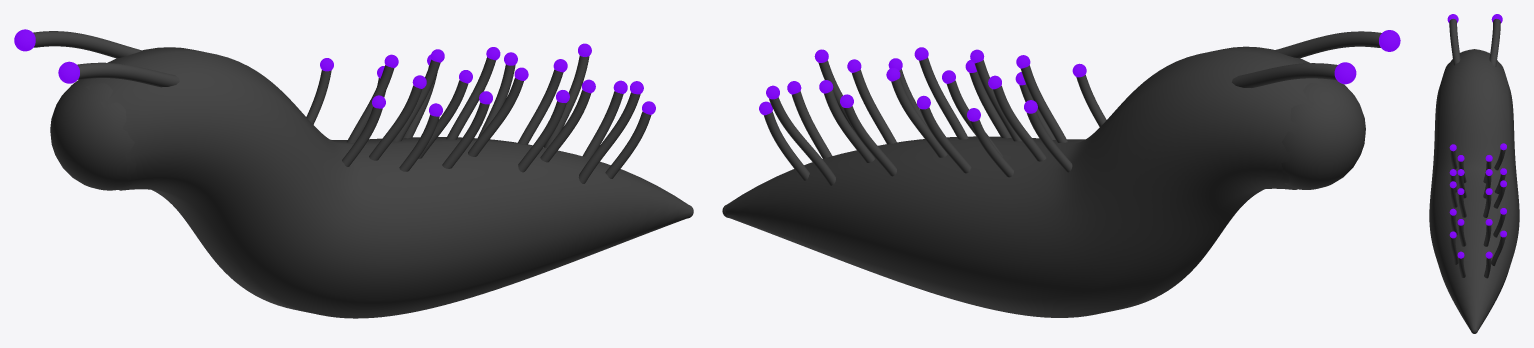
File: Sludge.glb
3 views of the same model, side by side, from view 1: azimuth 30°, elevation 25°; view 2: azimuth 150°, elevation 25°; view 3: azimuth 270°, elevation 25° (orthographic). The views are drawn at different scales.
Parts seen in each view (by area): view 1: NurbsPath, NurbsCurve.010, NurbsCurve, Sphere.021; view 2: NurbsPath, NurbsCurve.010, NurbsCurve, Sphere.021; view 3: NurbsPath, NurbsCurve.010, NurbsCurve, Sphere.021.
Part boxes in pixels (bbox=[...]): NurbsPath: bbox=[50, 47, 693, 318]; NurbsCurve.010: bbox=[306, 55, 651, 183]; NurbsCurve: bbox=[33, 31, 179, 87]; Sphere.021: bbox=[320, 47, 595, 116]; NurbsPath: bbox=[722, 46, 1365, 317]; NurbsCurve.010: bbox=[764, 57, 1106, 185]; NurbsCurve: bbox=[1232, 31, 1381, 87]; Sphere.021: bbox=[819, 47, 1086, 113]; NurbsPath: bbox=[1429, 49, 1519, 333]; NurbsCurve.010: bbox=[1450, 149, 1505, 278]; NurbsCurve: bbox=[1449, 19, 1500, 66]; Sphere.021: bbox=[1449, 143, 1506, 225].
Size of the model in its own units: 4.9 by 2.46 by 1.17.
